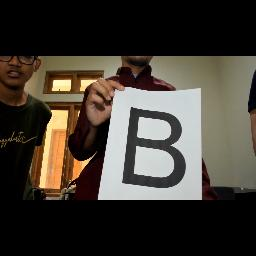b: (120, 102, 190, 192)
